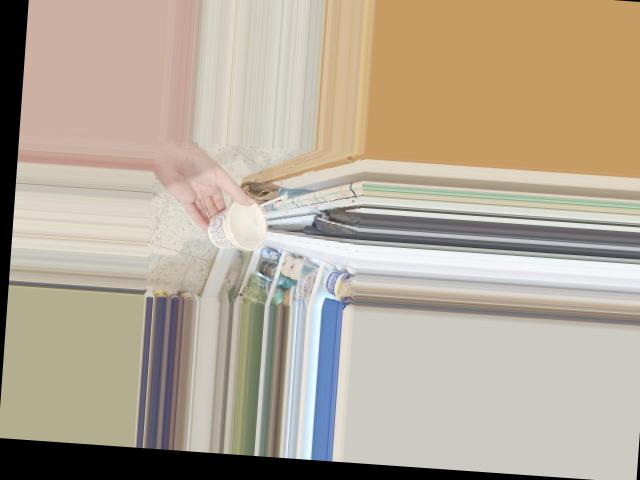cotage: (209, 196, 261, 248)
